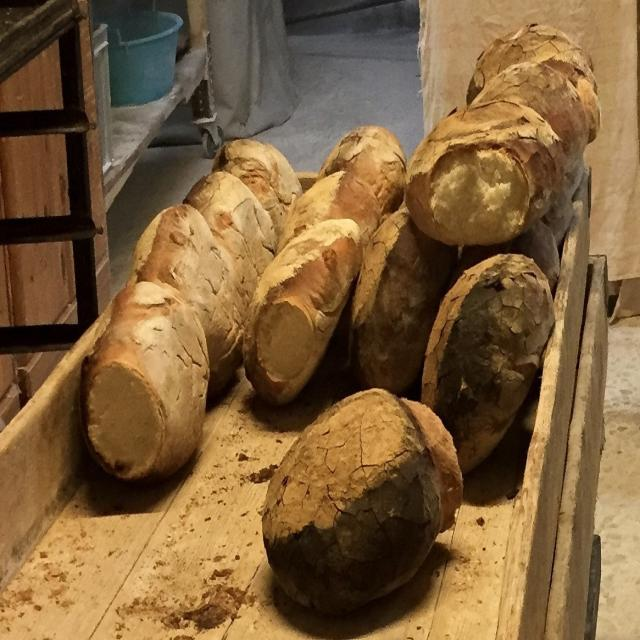Maltese-Bread: (262, 389, 463, 613), (421, 254, 554, 473), (405, 93, 577, 246), (82, 281, 209, 480), (243, 220, 361, 404), (132, 204, 246, 394), (349, 204, 457, 395), (186, 171, 276, 325), (276, 171, 383, 253)
